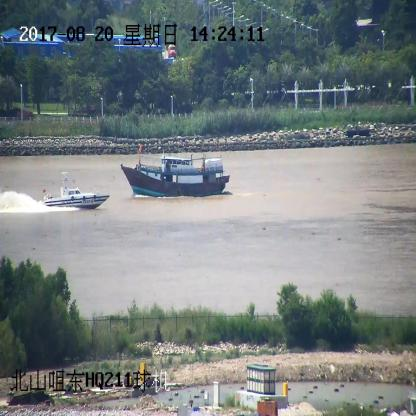Fishing Boat: (121, 146, 230, 198)
